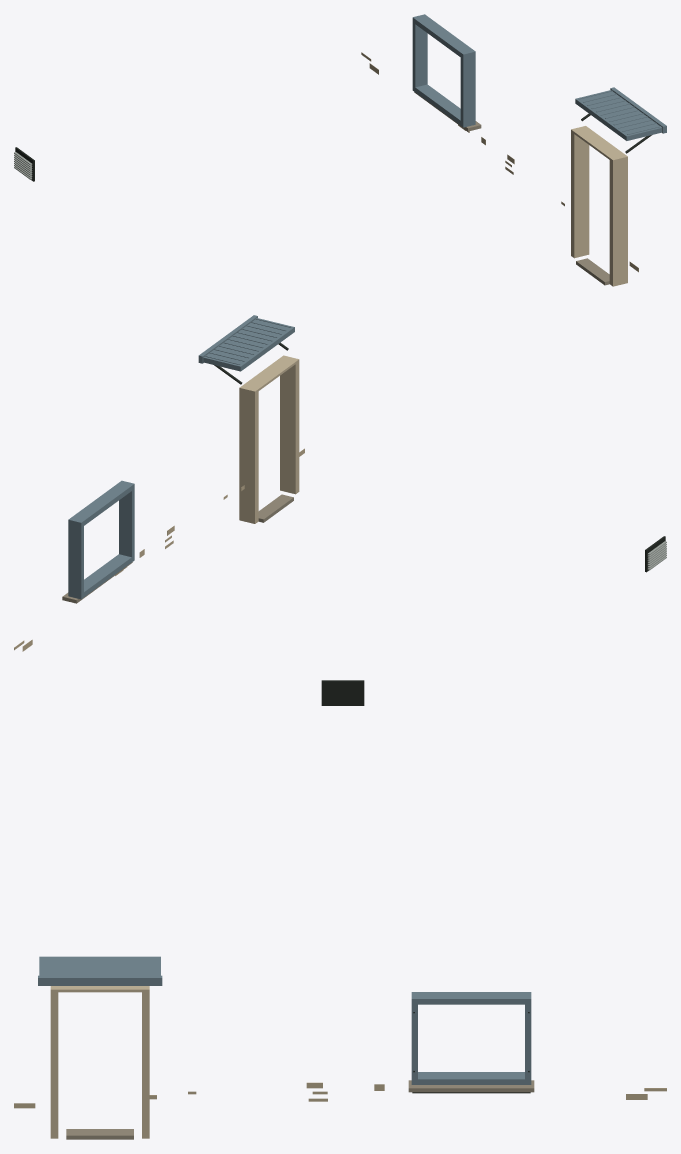
The model's file is SM_Homes_H04_Fixtures.fbx.
3 views of the same model, one above another, from view 1: azimuth 30°, elevation 25°; view 2: azimuth 150°, elevation 25°; view 3: azimuth 270°, elevation 25° (orthographic). The views are drawn at different scales.
Parts seen in each view (by area): view 1: SM_Homes_H04_Fixtures; view 2: SM_Homes_H04_Fixtures; view 3: SM_Homes_H04_Fixtures.
Boxes of the visible parts, x1,y1,x2,y2 form: SM_Homes_H04_Fixtures: (14,14,666,286); SM_Homes_H04_Fixtures: (14,315,666,651); SM_Homes_H04_Fixtures: (14,680,666,1139).
Size of the model in its own units: 9.81 by 9.14 by 2.88.
